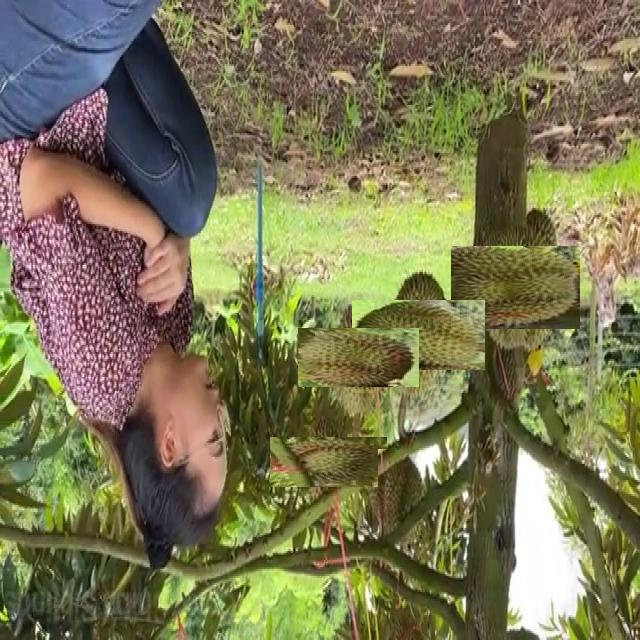durian: (462, 234, 569, 341), (367, 284, 470, 386), (313, 312, 404, 402), (287, 420, 371, 504), (378, 449, 428, 552)
